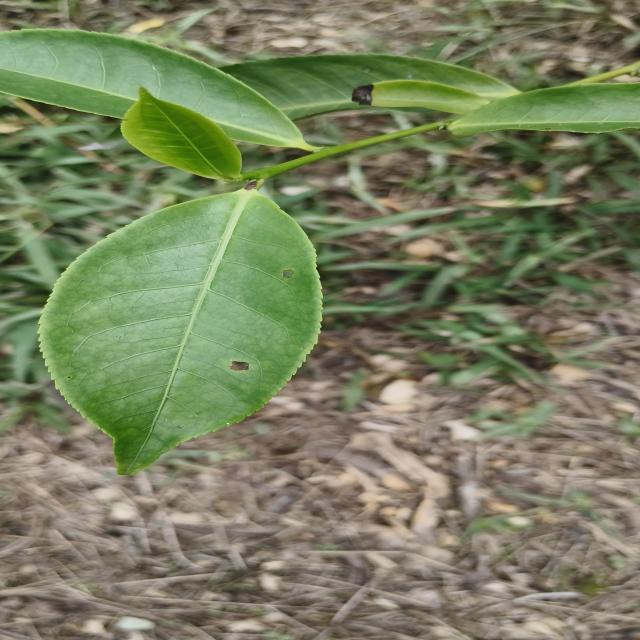Leaf: (39, 188, 321, 474), (0, 29, 315, 151), (218, 54, 519, 120), (121, 87, 242, 179), (450, 83, 640, 136), (352, 80, 489, 114)
